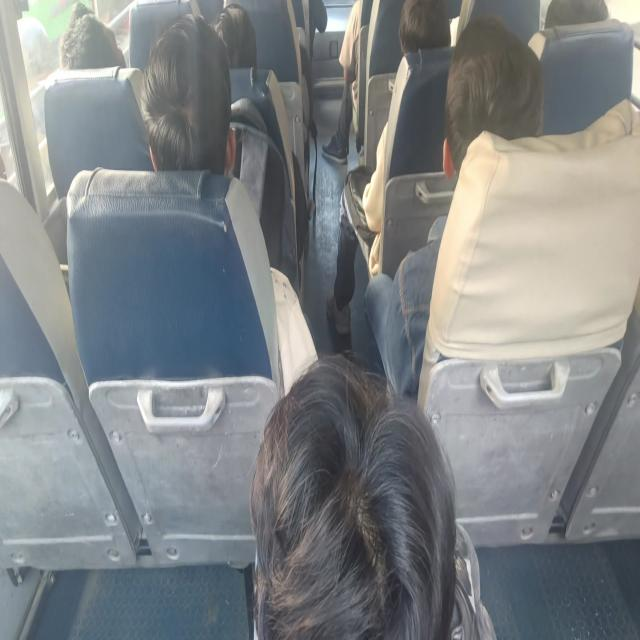person: (249, 352, 496, 638), (363, 15, 544, 399), (139, 12, 318, 390), (326, 0, 452, 338), (140, 13, 236, 175), (321, 0, 362, 165), (58, 2, 126, 70), (211, 3, 257, 68), (18, 15, 52, 91), (543, 0, 609, 29)
